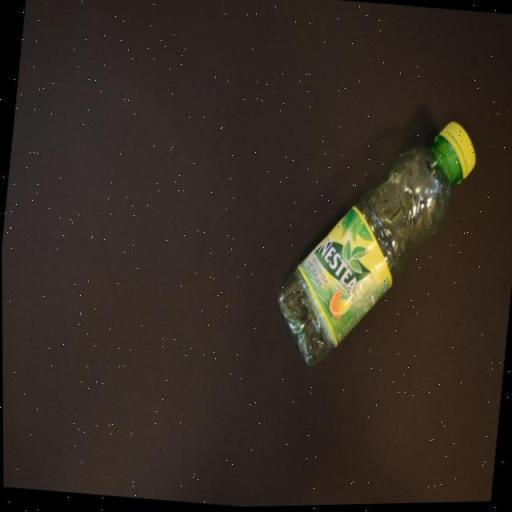plastic: (268, 106, 482, 388)
